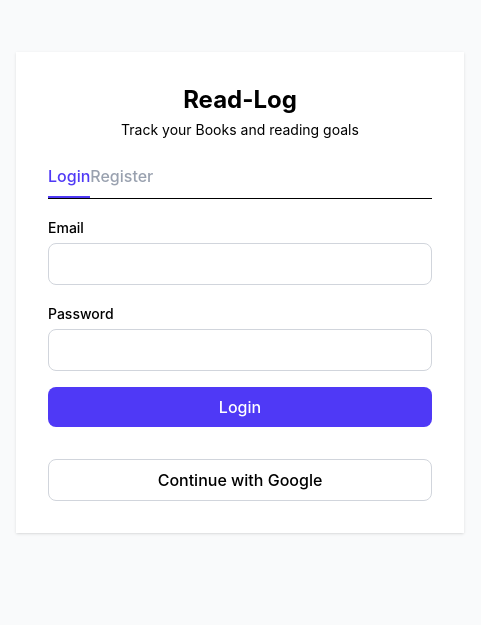
Test: Login page › asks for a name when registering without one
Click the tab "Register": (122, 180) x1=90 y1=164 x2=153 y2=196
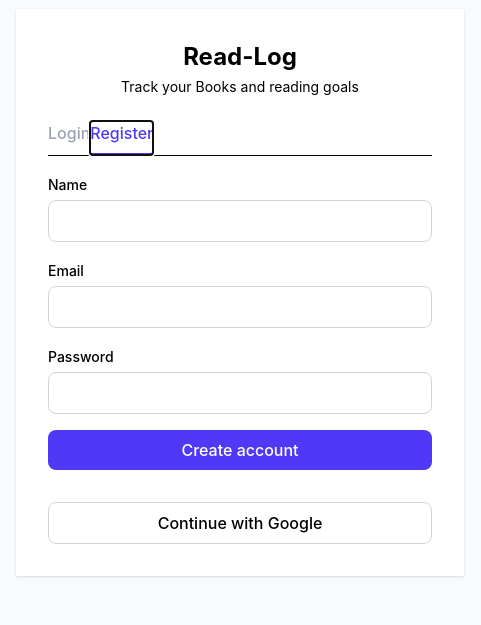
In the field labelled "Email": (240, 306) x1=48 y1=286 x2=432 y2=328, type "ada@example.com"
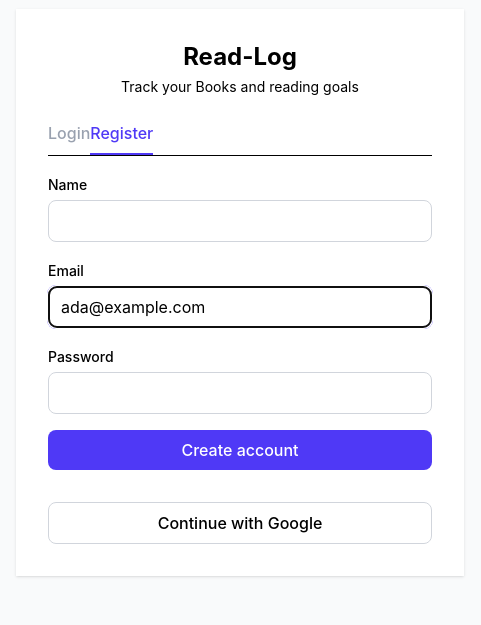
In the password field labelled "Password": (240, 392) x1=48 y1=372 x2=432 y2=414, type "secret123"
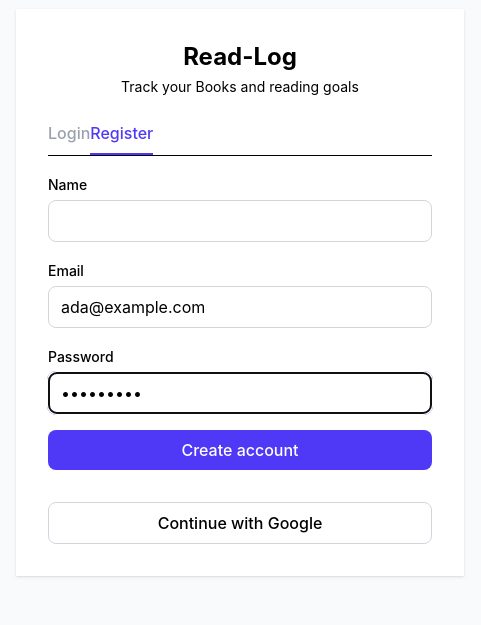
Click the button "Create account": (240, 450) x1=48 y1=430 x2=432 y2=470
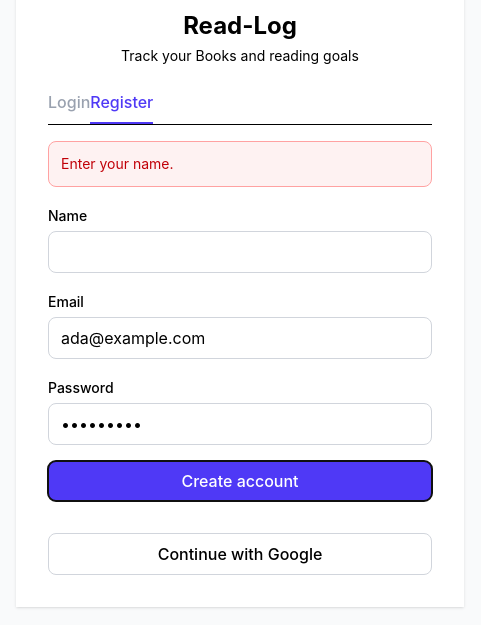
Expected: the text "Enter your name." is shown, x1=48 y1=140 x2=432 y2=186
